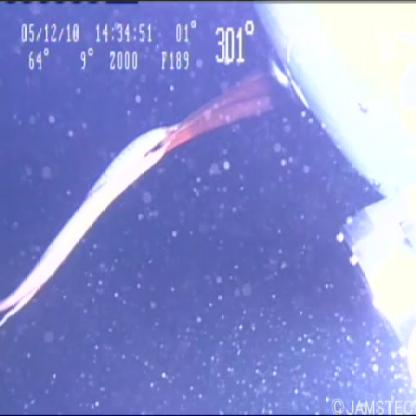Bio: (1, 62, 290, 330)
